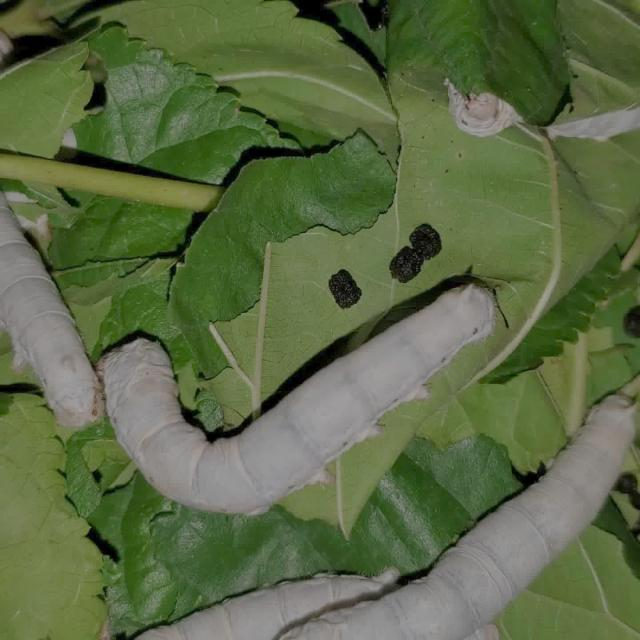Healthy: (65, 215, 543, 528)
